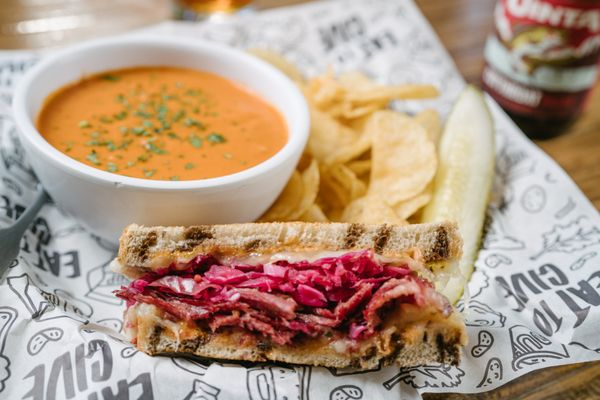sushi: (9, 27, 311, 246)
